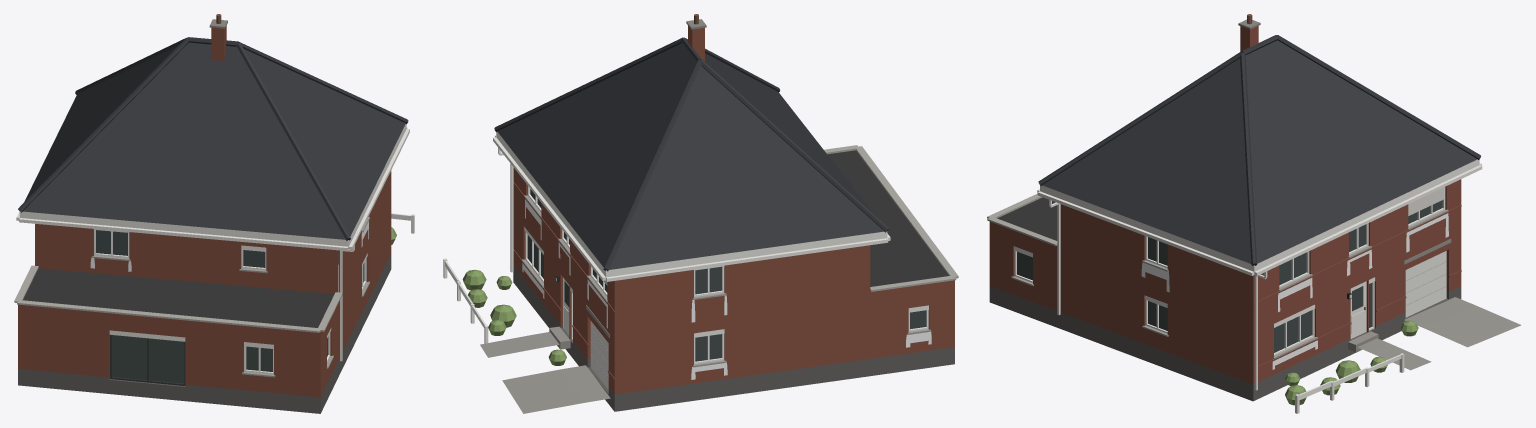
Rendered from vh_fork_house.glb.
3 renders of one model, left to right at view 1: azimuth 30°, elevation 25°; view 2: azimuth 150°, elevation 25°; view 3: azimuth 270°, elevation 25°, orthographic. The views are drawn at different scales.
Visible parts, largest first — view 1: vh_roof, vh_brick, vh_stone, vh_trim, vh_glass, vh_frames_small; view 2: vh_roof, vh_brick, vh_trim, vh_stone, vh_frames_small, vh_paving, vh_glass, vh_hedge, vh_streaks_small; view 3: vh_roof, vh_brick, vh_trim, vh_frames_small, vh_paving, vh_glass, vh_stone, vh_streaks_small, vh_hedge.
Boxes of the visible parts, bbox=[...] form: vh_roof: bbox=[18, 37, 408, 240]; vh_brick: bbox=[18, 26, 391, 397]; vh_stone: bbox=[14, 14, 369, 377]; vh_trim: bbox=[18, 124, 414, 413]; vh_glass: bbox=[96, 230, 364, 383]; vh_frames_small: bbox=[16, 99, 409, 385]; vh_roof: bbox=[494, 37, 888, 271]; vh_brick: bbox=[513, 26, 954, 394]; vh_trim: bbox=[443, 131, 954, 411]; vh_stone: bbox=[521, 14, 958, 367]; vh_frames_small: bbox=[493, 135, 928, 377]; vh_paving: bbox=[480, 332, 610, 413]; vh_glass: bbox=[527, 189, 926, 361]; vh_hedge: bbox=[462, 269, 566, 365]; vh_streaks_small: bbox=[522, 199, 931, 379]; vh_roof: bbox=[1038, 35, 1480, 265]; vh_brick: bbox=[989, 26, 1461, 384]; vh_trim: bbox=[989, 159, 1479, 413]; vh_frames_small: bbox=[1014, 163, 1482, 390]; vh_paving: bbox=[1357, 297, 1521, 370]; vh_glass: bbox=[1017, 200, 1442, 352]; vh_stone: bbox=[987, 14, 1448, 359]; vh_streaks_small: bbox=[1141, 213, 1448, 369]; vh_hedge: bbox=[1285, 320, 1418, 405].
Size of the model in its own units: 19.88 by 12.67 by 20.42.
